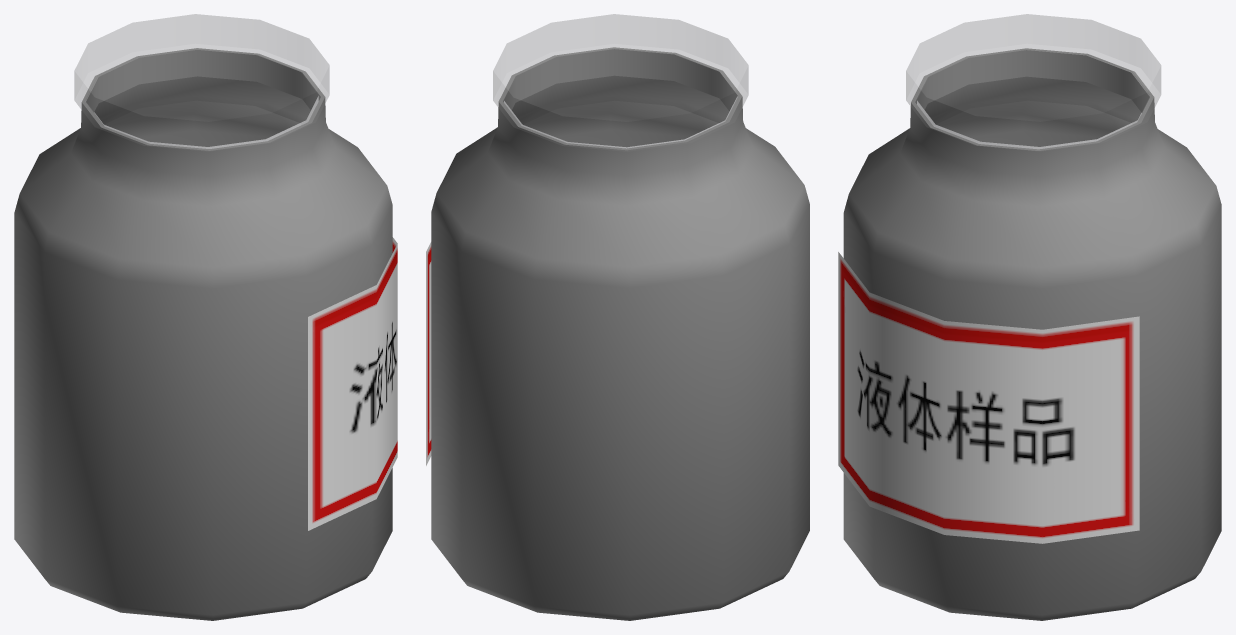
File: SM_液体样品.FBX
The picture shows the model from 3 angles, left to right: view 1: azimuth 30°, elevation 25°; view 2: azimuth 150°, elevation 25°; view 3: azimuth 270°, elevation 25°; orthographic projection.
Visible parts, largest first — view 1: SM_液体样品_瓶子, SM_液体样品_盖子; view 2: SM_液体样品_瓶子, SM_液体样品_盖子; view 3: SM_液体样品_瓶子, SM_液体样品_盖子.
Part boxes in pixels (bbox=[...]): SM_液体样品_瓶子: bbox=[14, 48, 397, 620]; SM_液体样品_盖子: bbox=[74, 14, 329, 151]; SM_液体样品_瓶子: bbox=[426, 47, 809, 620]; SM_液体样品_盖子: bbox=[493, 14, 748, 151]; SM_液体样品_瓶子: bbox=[838, 48, 1221, 620]; SM_液体样品_盖子: bbox=[906, 14, 1160, 151].
Bounding box in the file's own units: 68.7 × 94.69 × 68.74.
